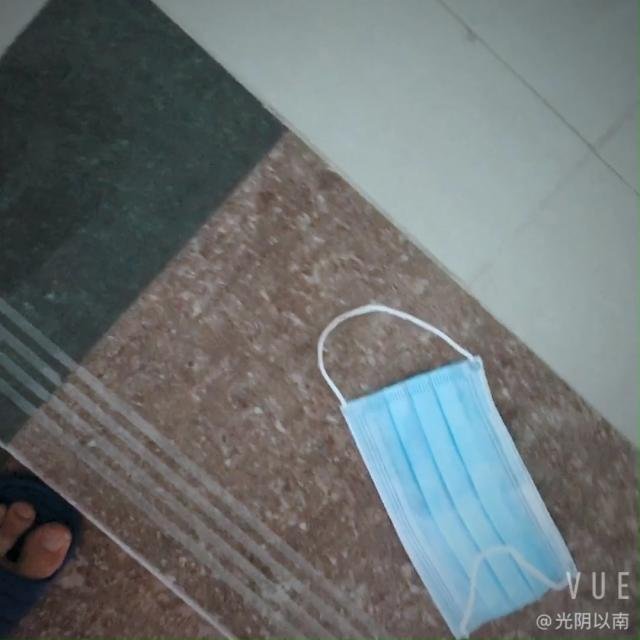non-organic waste: (337, 346, 566, 640)
